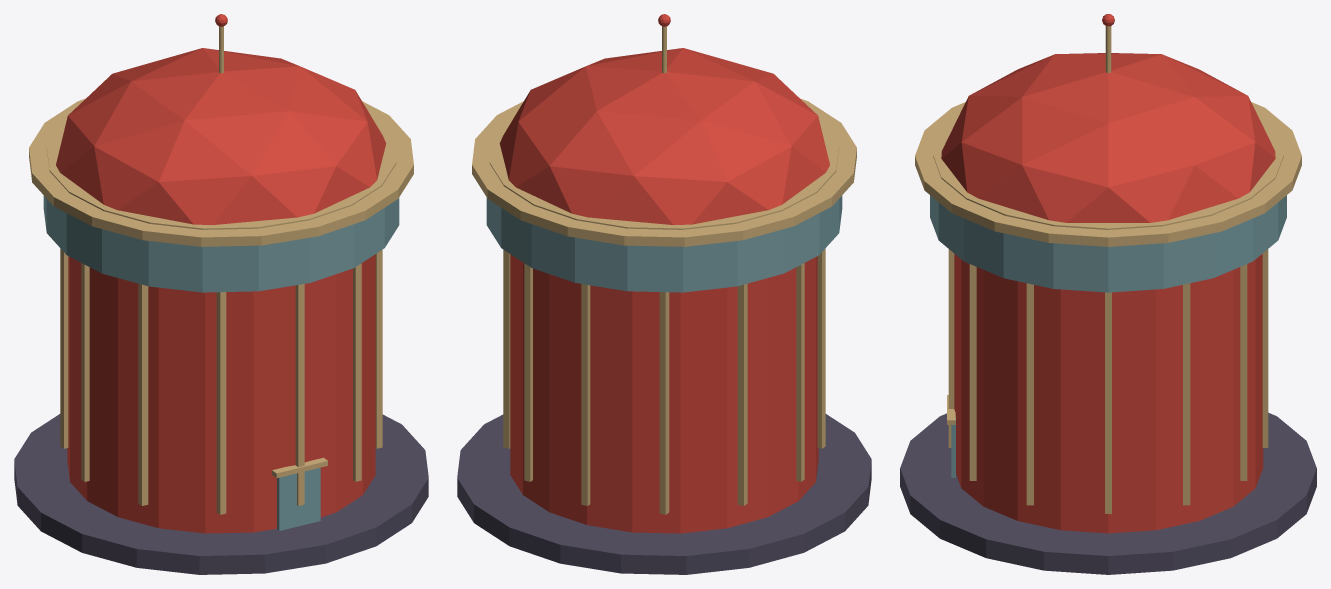
3 views of the same model, side by side, from view 1: azimuth 30°, elevation 25°; view 2: azimuth 150°, elevation 25°; view 3: azimuth 270°, elevation 25° (orthographic).
Parts seen in each view (by area): view 1: RC-001 Red observatory civic hall batched; view 2: RC-001 Red observatory civic hall batched; view 3: RC-001 Red observatory civic hall batched.
Boxes of the visible parts, x1=… form: RC-001 Red observatory civic hall batched: x1=14, y1=14, x2=428, y2=574; RC-001 Red observatory civic hall batched: x1=457, y1=14, x2=871, y2=574; RC-001 Red observatory civic hall batched: x1=900, y1=14, x2=1316, y2=574.
Size of the model in its own units: 14 by 17.52 by 14.
